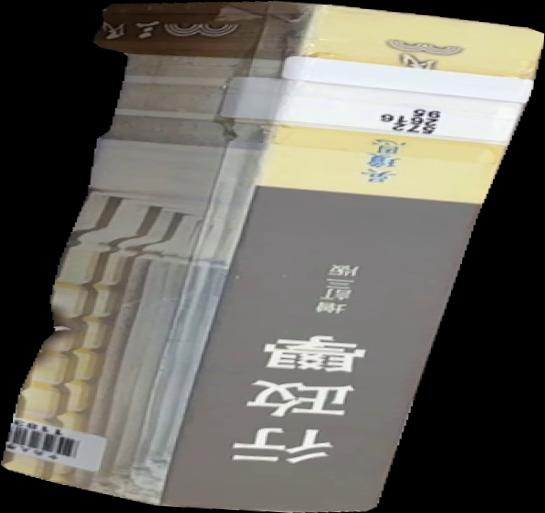reverse: (1, 1, 545, 513)
